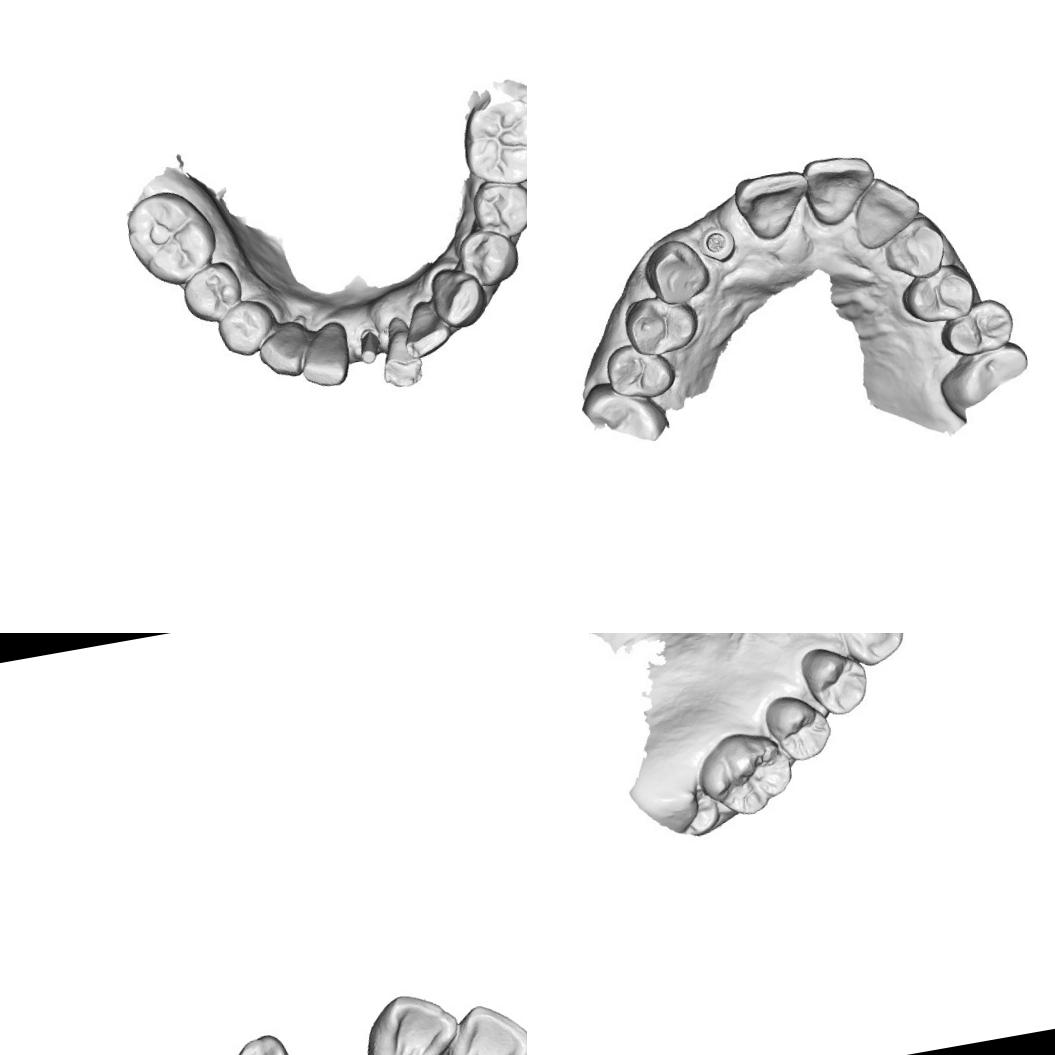abutment: (352, 326, 384, 364)
canine: (638, 235, 716, 314), (252, 316, 314, 382), (430, 262, 488, 324), (885, 222, 944, 276), (837, 633, 909, 669), (221, 1028, 303, 1055)
implant: (692, 212, 744, 273)
incisor: (353, 985, 467, 1055), (843, 168, 927, 252), (733, 165, 814, 243), (427, 993, 527, 1055), (802, 151, 877, 226), (368, 312, 428, 396), (294, 322, 356, 387), (402, 295, 452, 358)
molar: (690, 720, 798, 824), (121, 188, 213, 287), (456, 87, 527, 191)
premolar: (793, 638, 874, 724), (597, 334, 679, 408), (892, 263, 981, 330), (936, 295, 1018, 362), (761, 686, 831, 764), (624, 295, 698, 361), (179, 259, 239, 324), (470, 175, 527, 239), (460, 228, 517, 282), (216, 299, 270, 354)
